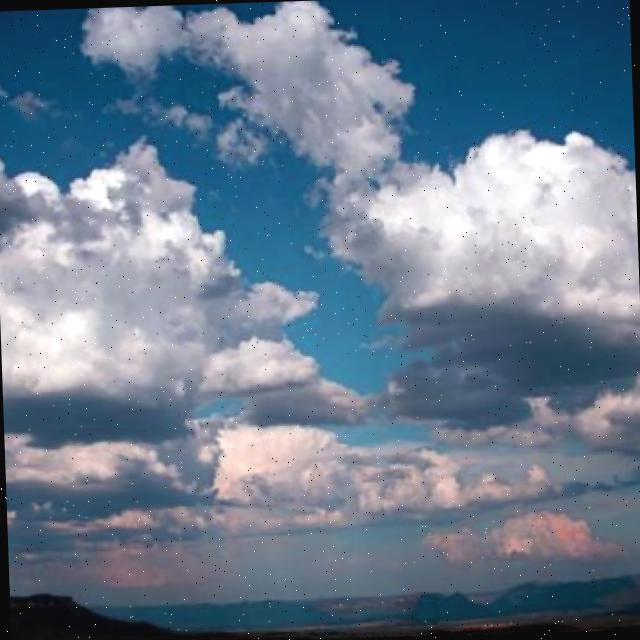Cu: (1, 95, 640, 548)
